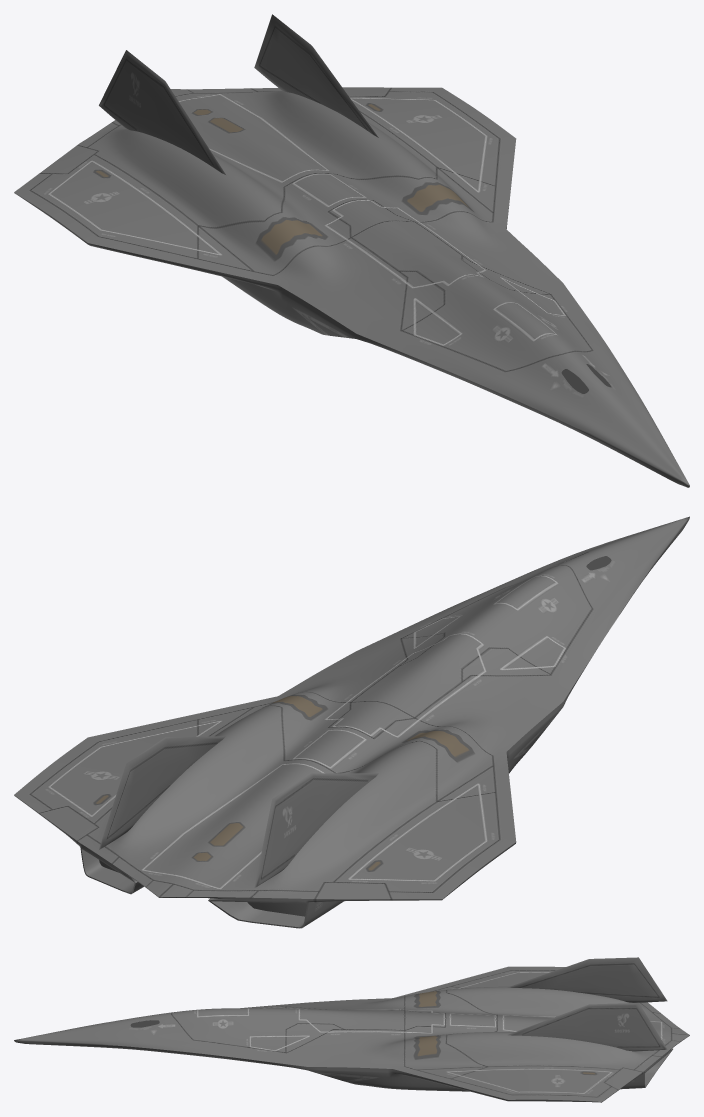
Rendered from DarkStarSmall.glb.
3 renders of one model, top to bottom at view 1: azimuth 30°, elevation 25°; view 2: azimuth 150°, elevation 25°; view 3: azimuth 270°, elevation 25°, orthographic. The views are drawn at different scales.
Parts seen in each view (by area): view 1: Darkstar, V_Stblz; view 2: Darkstar, V_Stblz; view 3: Darkstar, V_Stblz.
Part boxes in pixels (left/top/right/bottom): Darkstar: left=14, top=87, right=689, bottom=487; V_Stblz: left=99, top=14, right=378, bottom=174; Darkstar: left=14, top=516, right=689, bottom=928; V_Stblz: left=99, top=736, right=378, bottom=887; Darkstar: left=14, top=966, right=689, bottom=1102; V_Stblz: left=507, top=957, right=667, bottom=1051.
Bounding box in the file's own units: 3.99 × 1.11 × 8.57.
Materials: 2 (1 with a texture image).
